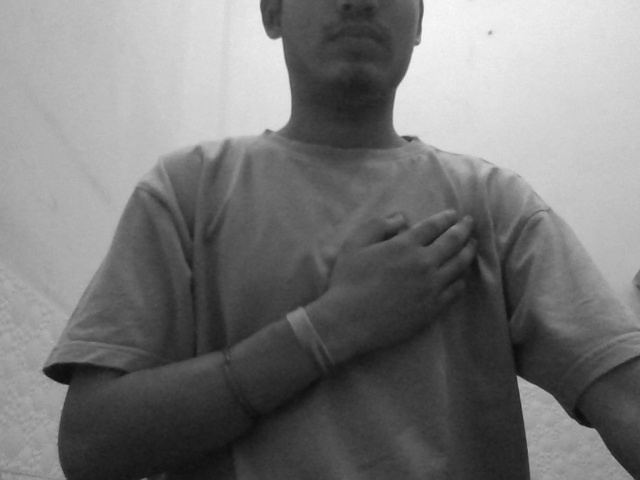Sorry: (256, 178, 509, 389)
